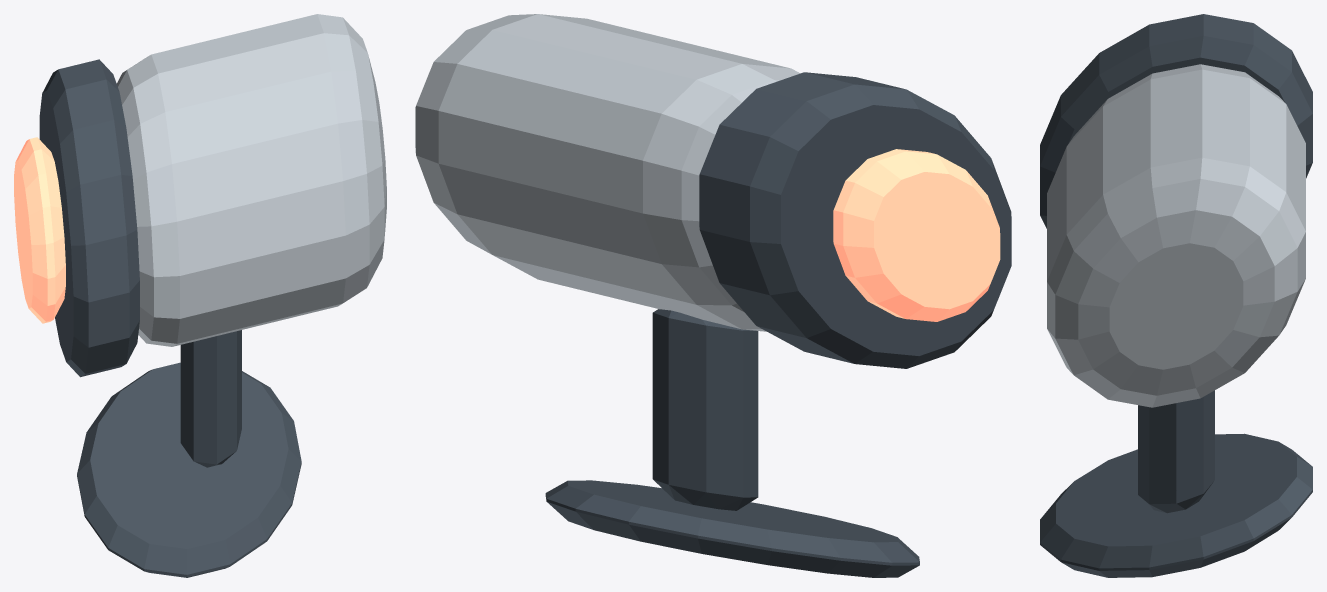
The model's file is Laser_Left.gltf.
3 views of the same model, side by side, from view 1: azimuth 30°, elevation 25°; view 2: azimuth 150°, elevation 25°; view 3: azimuth 270°, elevation 25° (orthographic). The views are drawn at different scales.
Parts seen in each view (by area): view 1: Laser_Left_baked; view 2: Laser_Left_baked; view 3: Laser_Left_baked.
Part boxes in pixels (<box>): Laser_Left_baked: <box>14,14,386,577</box>; Laser_Left_baked: <box>415,14,1011,577</box>; Laser_Left_baked: <box>1040,14,1312,577</box>.
Size of the model in its own units: 0.7224 by 0.781 by 0.3923.
